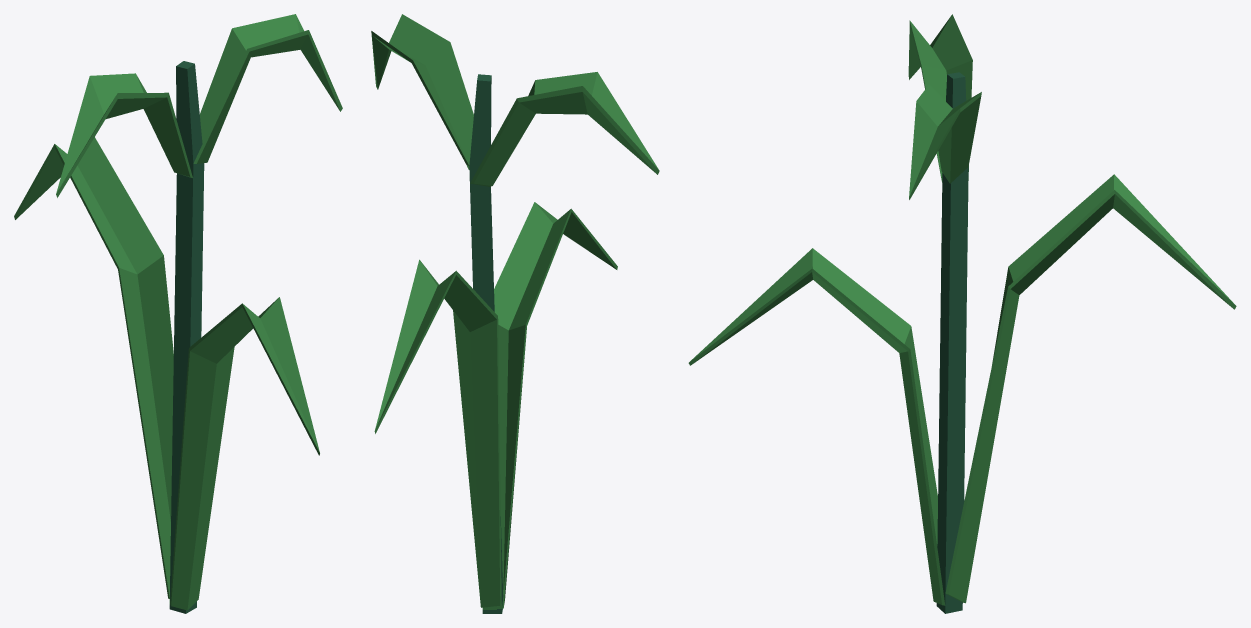
The model's file is Corn_S_Groowing.fbx.
3 renders of one model, left to right at view 1: azimuth 30°, elevation 25°; view 2: azimuth 150°, elevation 25°; view 3: azimuth 270°, elevation 25°, orthographic.
Parts seen in each view (by area): view 1: Corn_S_Groowing; view 2: Corn_S_Groowing; view 3: Corn_S_Groowing.
Part boxes in pixels (x1,y1,x2,y2): Corn_S_Groowing: [14, 14, 342, 613]; Corn_S_Groowing: [371, 14, 659, 613]; Corn_S_Groowing: [688, 14, 1236, 613].
Bounding box in the file's own units: 20.25 × 38.06 × 33.76.
